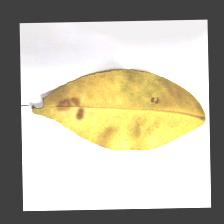black spot: (27, 78, 128, 138)
